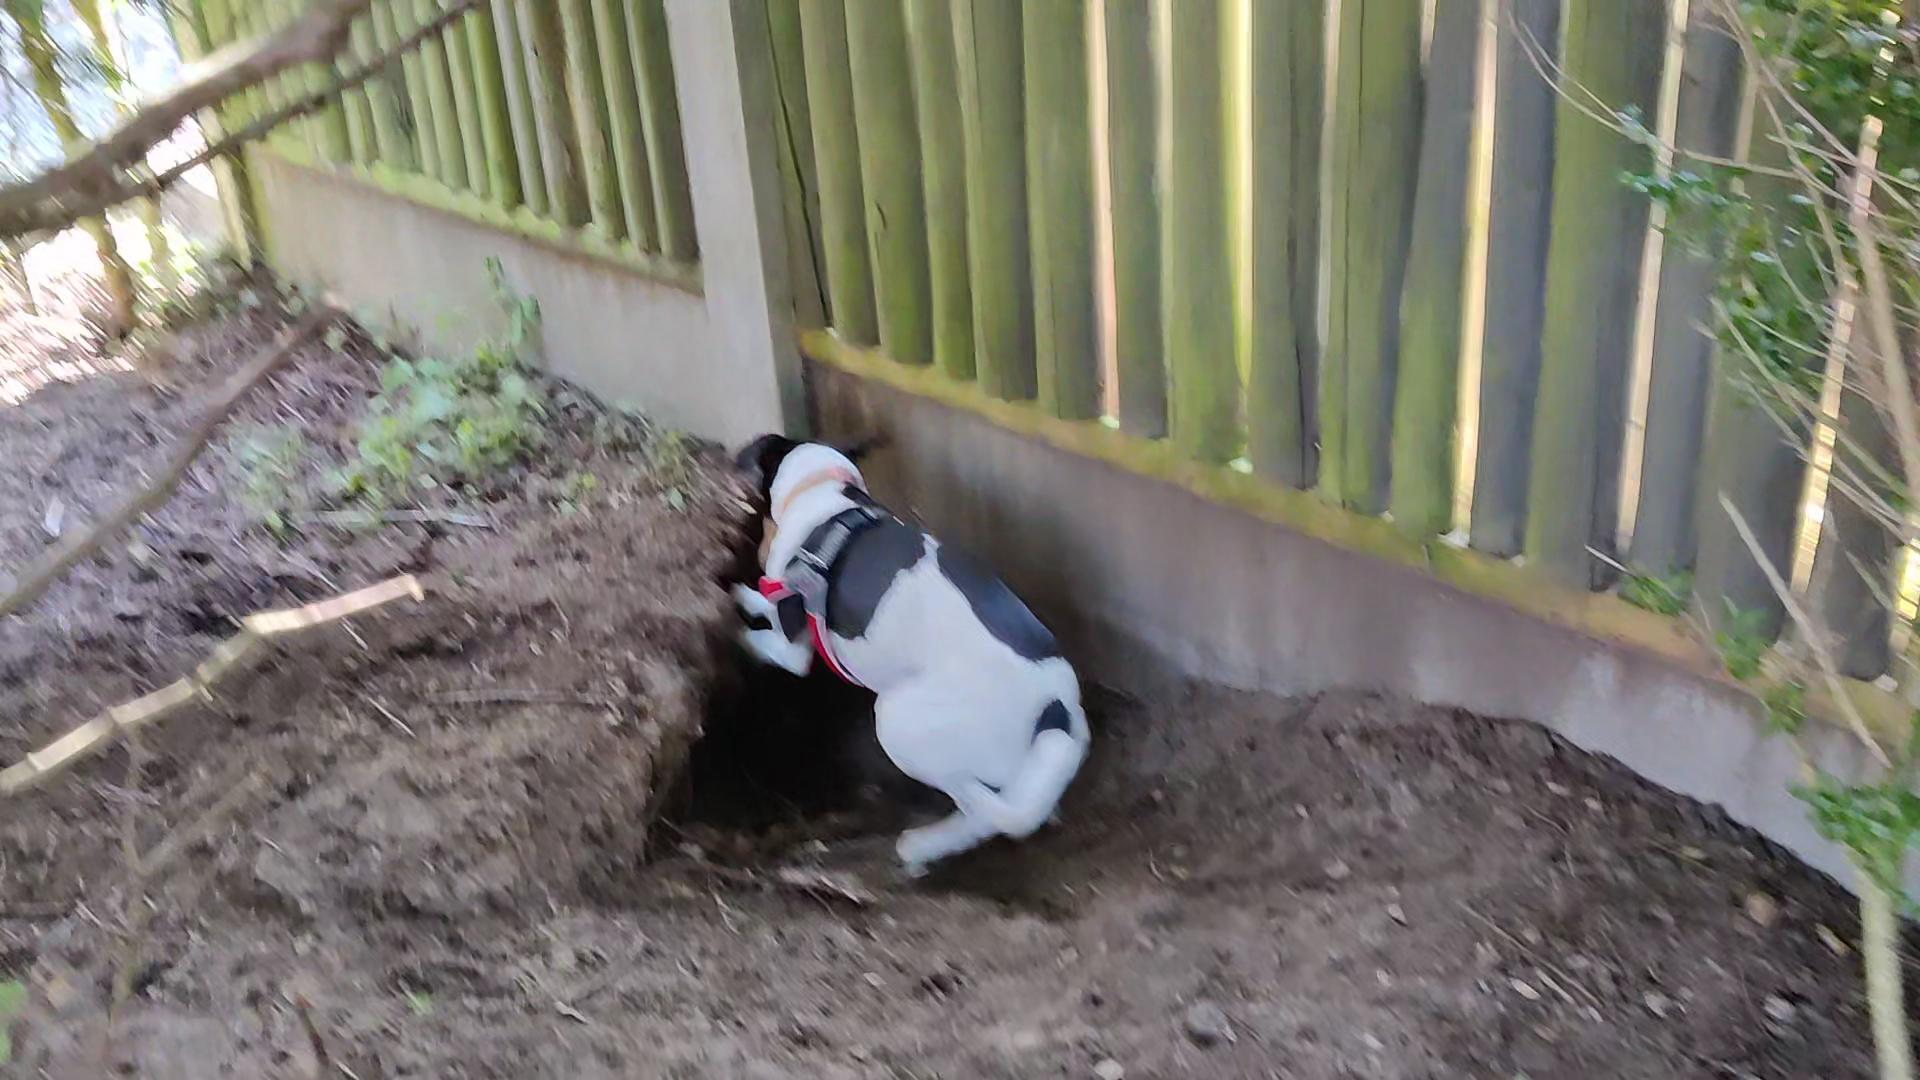Dog: (711, 411, 1104, 886)
